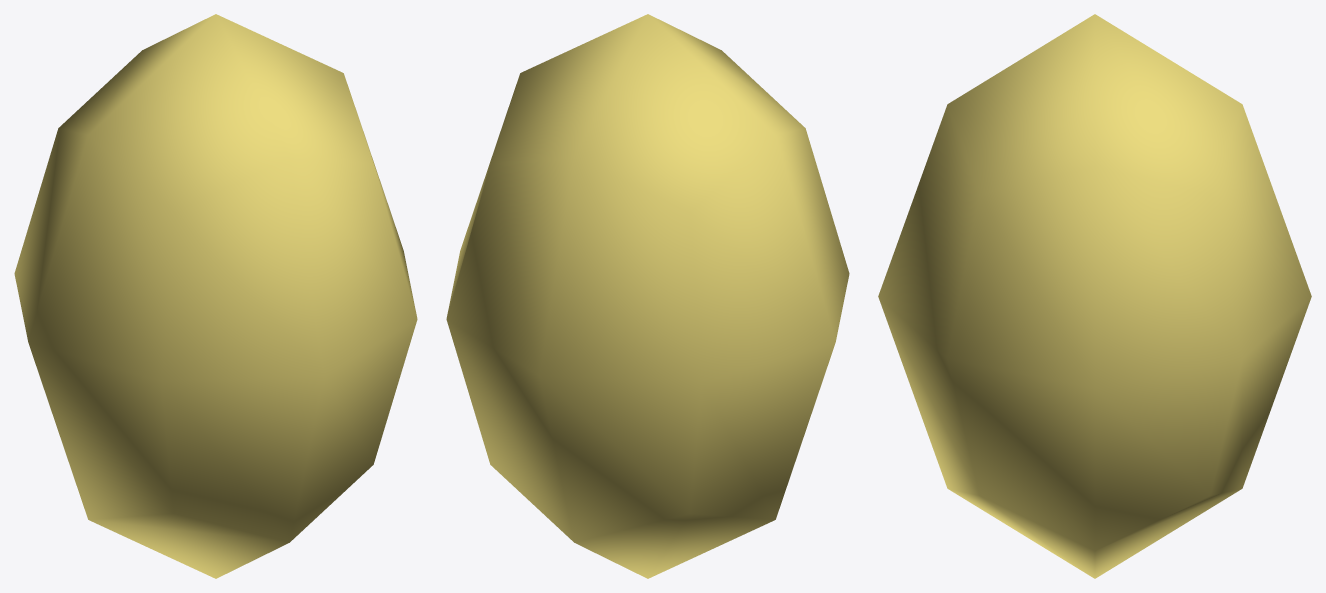
File: motor-nucleus-of-facial-nerve-l.glb
3 views of the same model, side by side, from view 1: azimuth 30°, elevation 25°; view 2: azimuth 150°, elevation 25°; view 3: azimuth 270°, elevation 25° (orthographic).
Visible parts, largest first — view 1: Motor nucleus of facial nerve.l; view 2: Motor nucleus of facial nerve.l; view 3: Motor nucleus of facial nerve.l.
Boxes of the visible parts, x1,y1,x2,y2 form: Motor nucleus of facial nerve.l: (14, 14, 417, 578); Motor nucleus of facial nerve.l: (446, 14, 849, 578); Motor nucleus of facial nerve.l: (878, 14, 1311, 578).
Bounding box in the file's own units: 0.00199 × 0.00286 × 0.00199.
